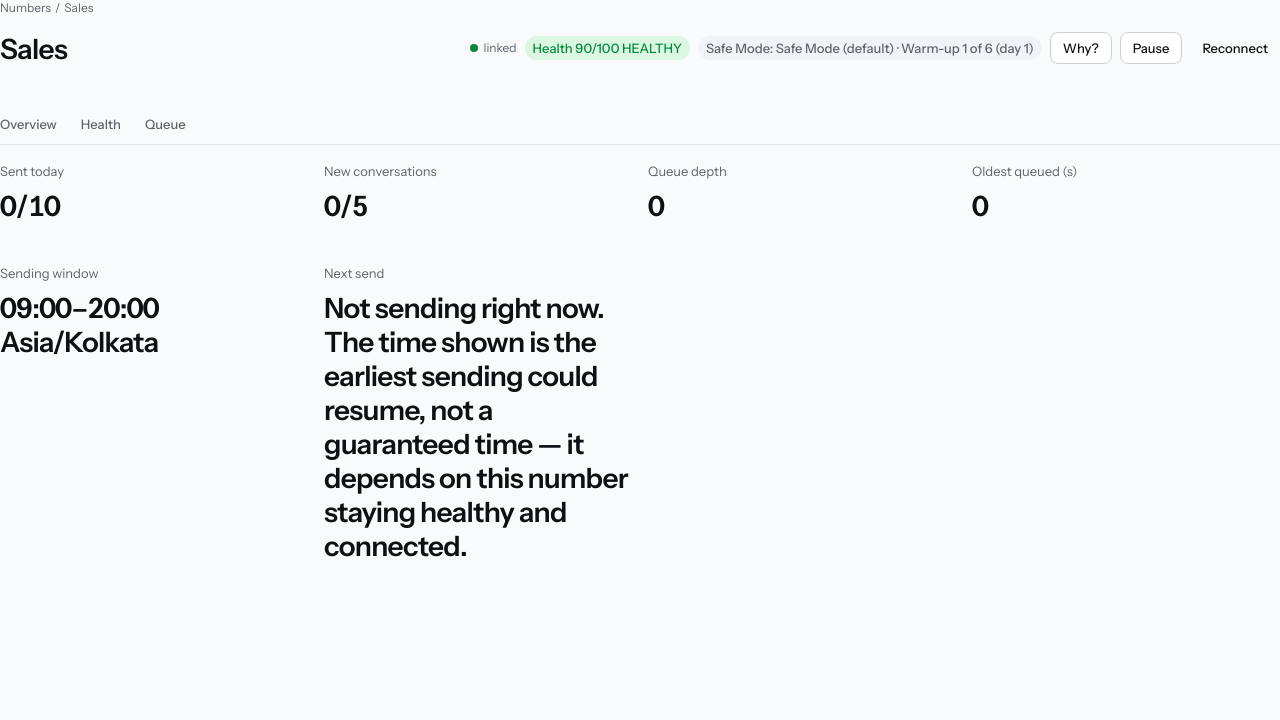
InstanceDetailPage › pausing_a_number_confirms_calls_park_and_toasts_success
Click the button with test id "instance-detail-pause-button". click: (1151, 48)
box: [1120,32,1182,64]
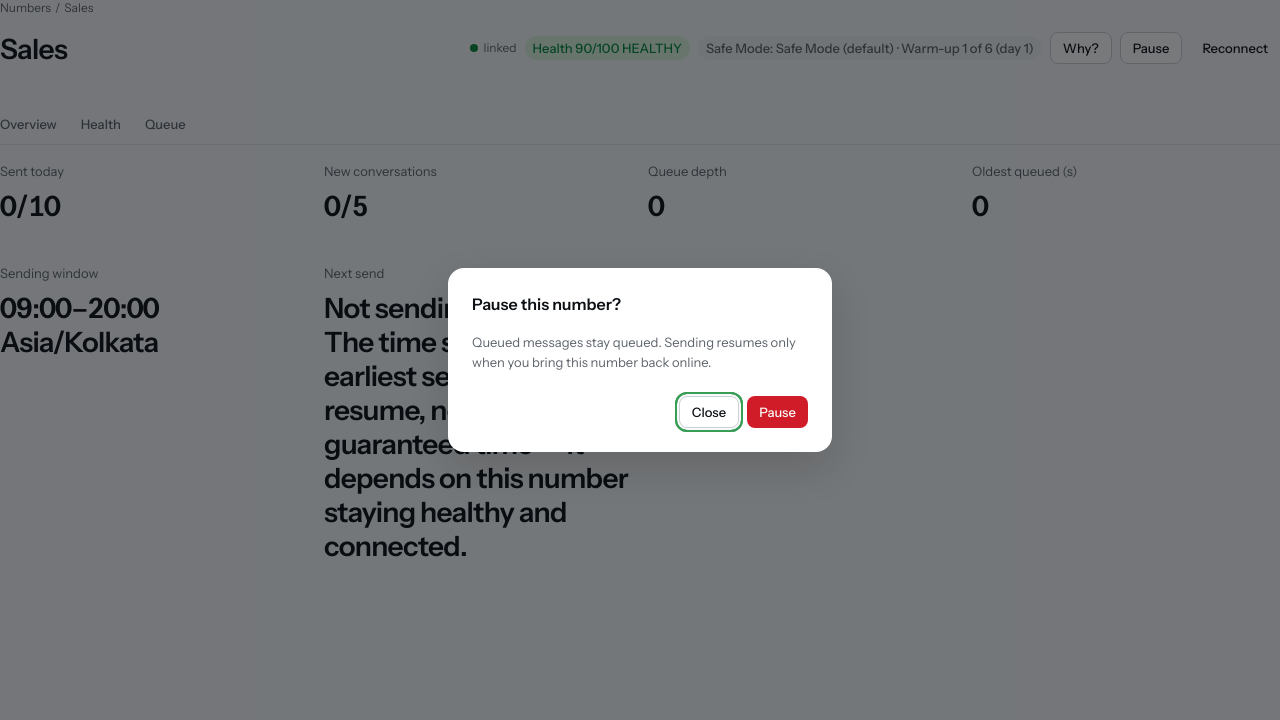
Click the button "Pause". click: (778, 412)
box: [747,396,808,428]
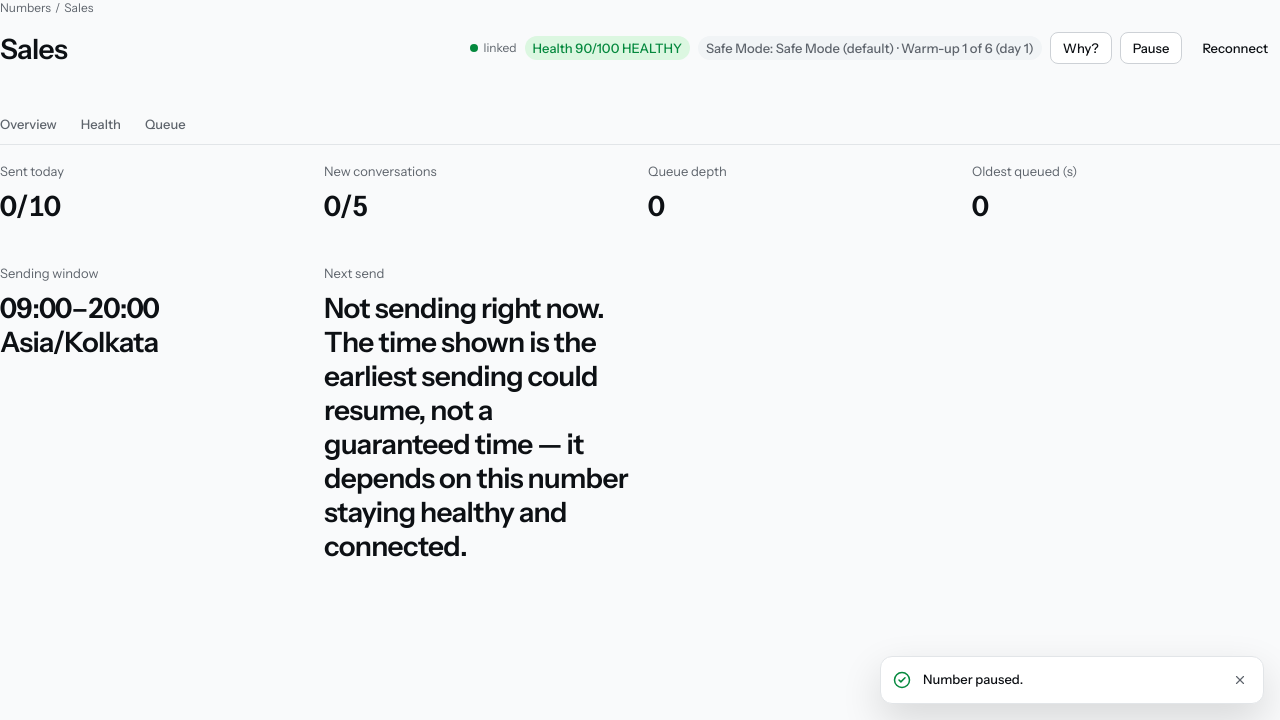
Expected: the text "Number paused." is shown, [923,671,1023,687]
